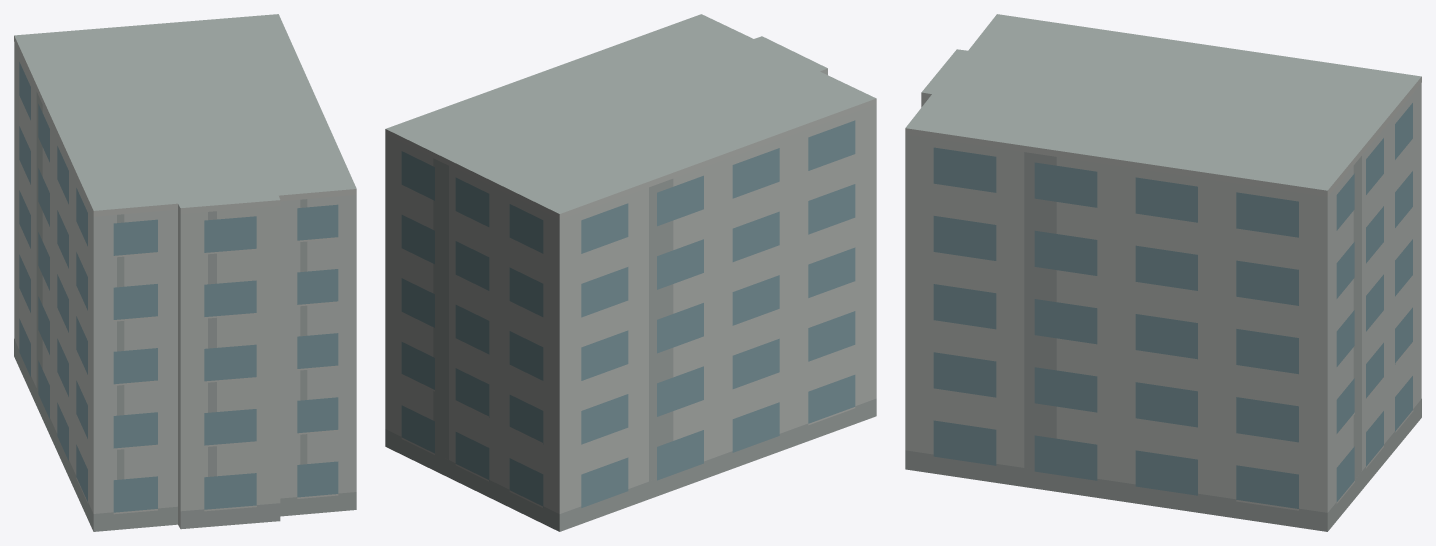
File: survey-upis-32992695.glb
The picture shows the model from 3 angles, left to right: view 1: azimuth 30°, elevation 25°; view 2: azimuth 150°, elevation 25°; view 3: azimuth 270°, elevation 25°; orthographic projection. The views are drawn at different scales.
Parts seen in each view (by area): view 1: survey-upis-32992695.tmp; view 2: survey-upis-32992695.tmp; view 3: survey-upis-32992695.tmp.
Boxes of the visible parts, bbox=[...] form: survey-upis-32992695.tmp: bbox=[14, 14, 356, 531]; survey-upis-32992695.tmp: bbox=[385, 14, 876, 531]; survey-upis-32992695.tmp: bbox=[905, 14, 1421, 531].
Size of the model in its own units: 14.67 by 13.2 by 18.12.
